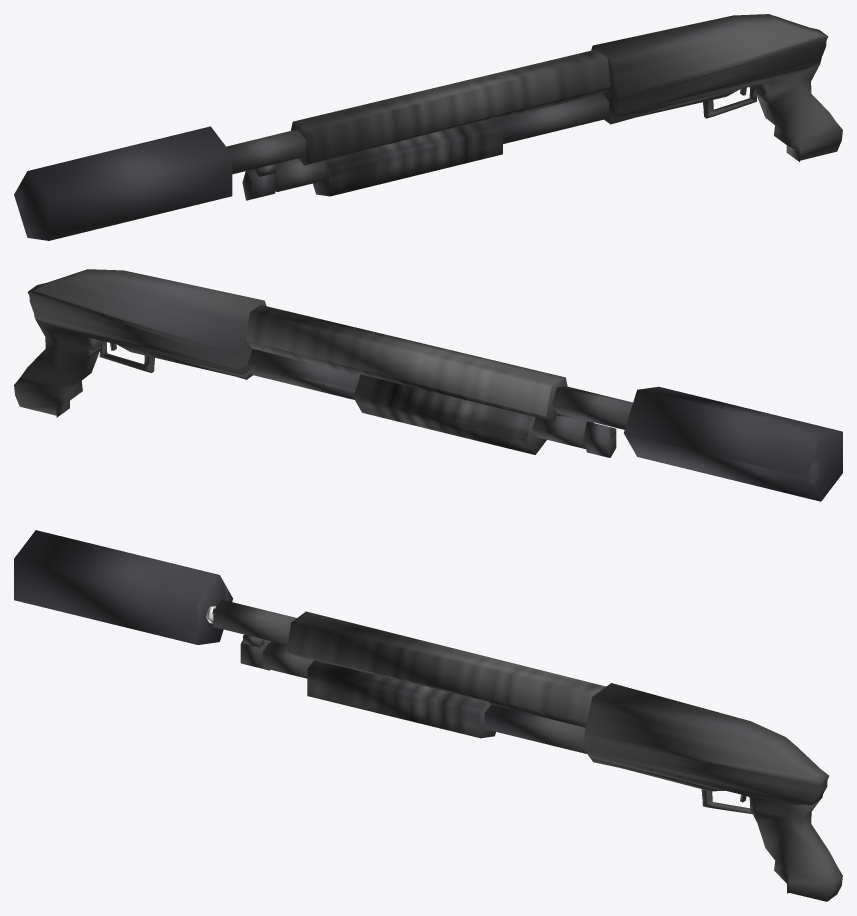
Rendered from shotgunModel.fbx.
The picture shows the model from 3 angles, top to bottom: view 1: azimuth 30°, elevation 25°; view 2: azimuth 150°, elevation 25°; view 3: azimuth 330°, elevation 25°; orthographic projection.
Parts seen in each view (by area): view 1: Cylinder.003; view 2: Cylinder.003; view 3: Cylinder.003.
Part boxes in pixels (box(x1,y1,x2,y2)): Cylinder.003: box(14, 14, 842, 240); Cylinder.003: box(14, 269, 842, 501); Cylinder.003: box(14, 530, 842, 901).
Bounding box in the file's own units: 591 × 118 × 46.08.
8 materials, 8 textured.
